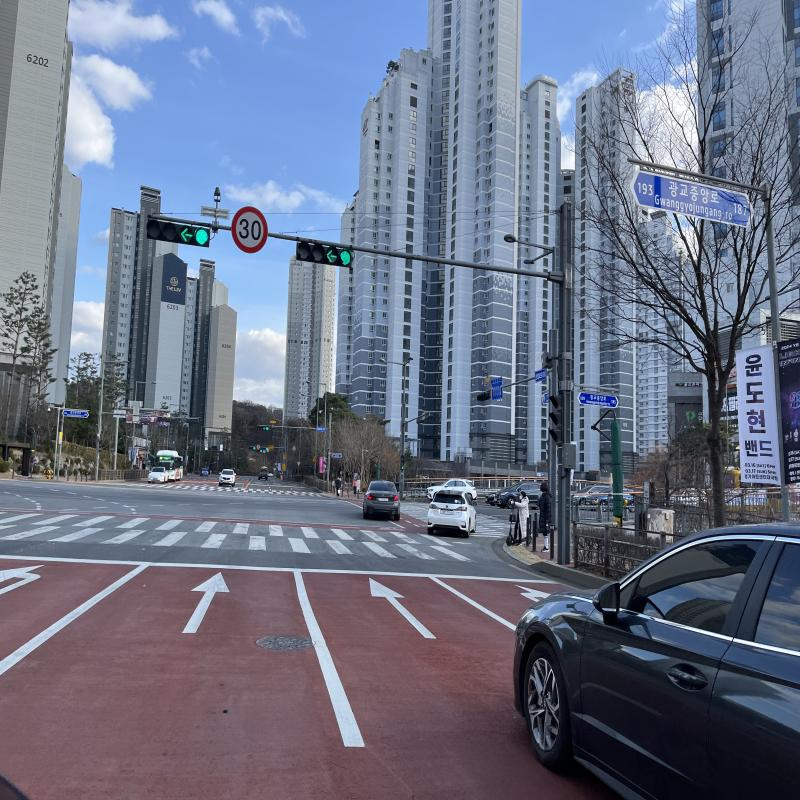green: (194, 227, 209, 245), (340, 250, 351, 265)
left: (180, 225, 194, 243), (325, 248, 339, 263)
